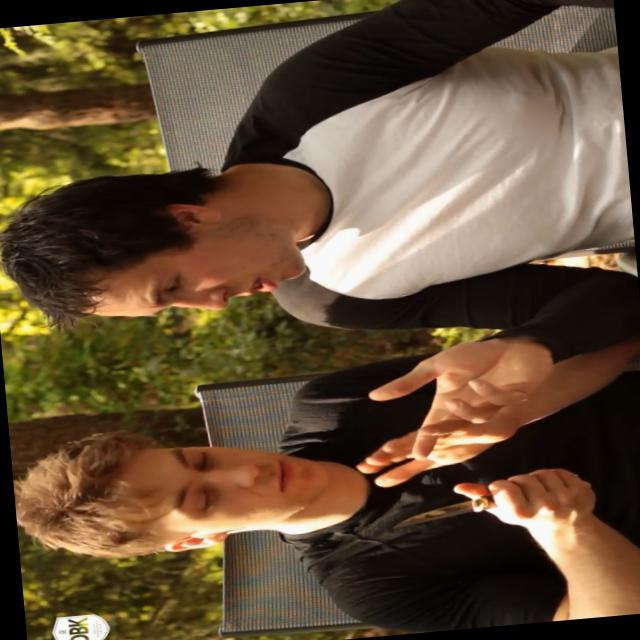knife: (350, 464, 562, 550)
